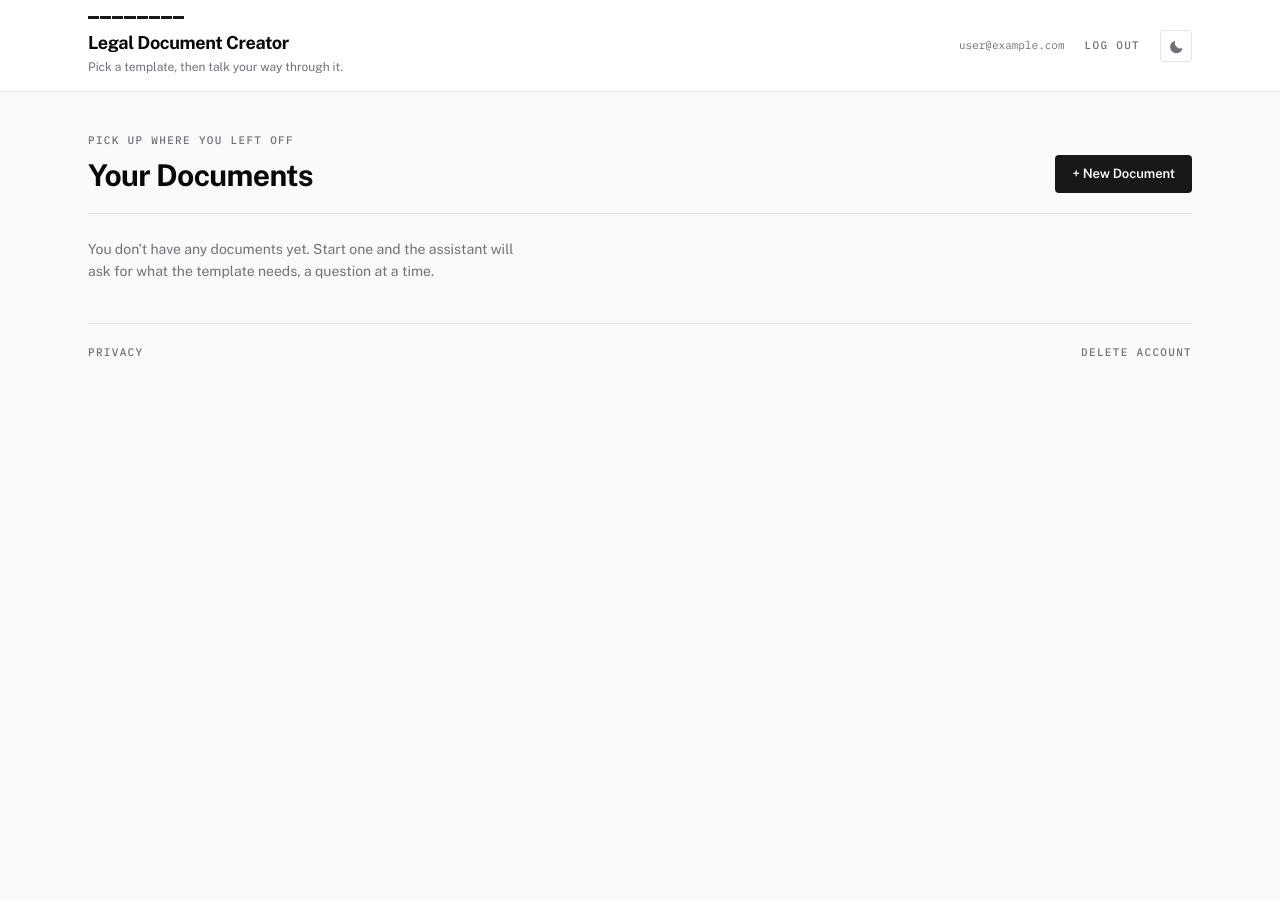
Home (auth-gated multi-user flow) › returns to the dashboard via My Documents and refreshes the list
Click the button "+ New Document".
click(1124, 174)  # box top-left (1055, 155), bottom-right (1192, 192)
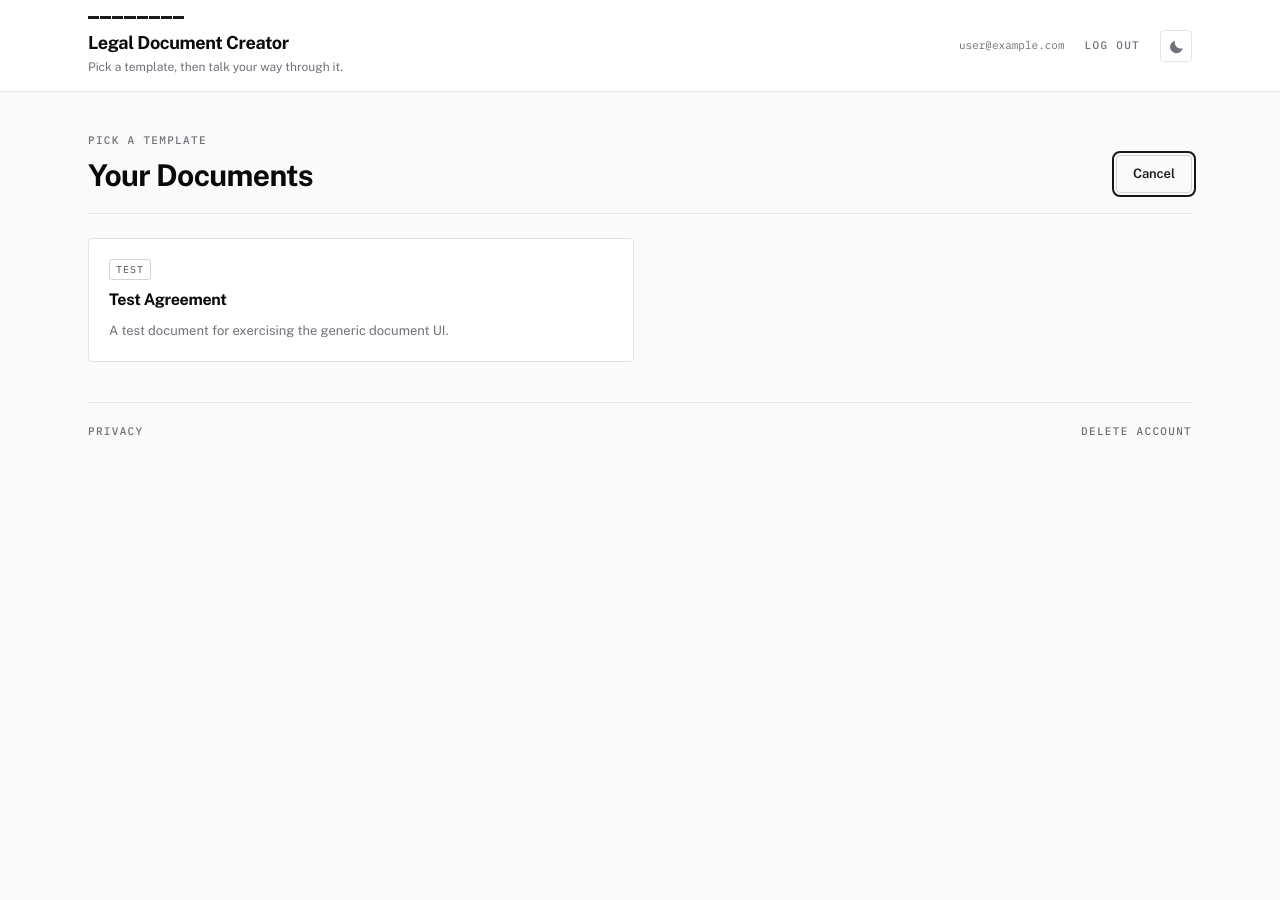
Click the button "Test Agreement".
click(130, 269)  # box top-left (88, 238), bottom-right (634, 362)
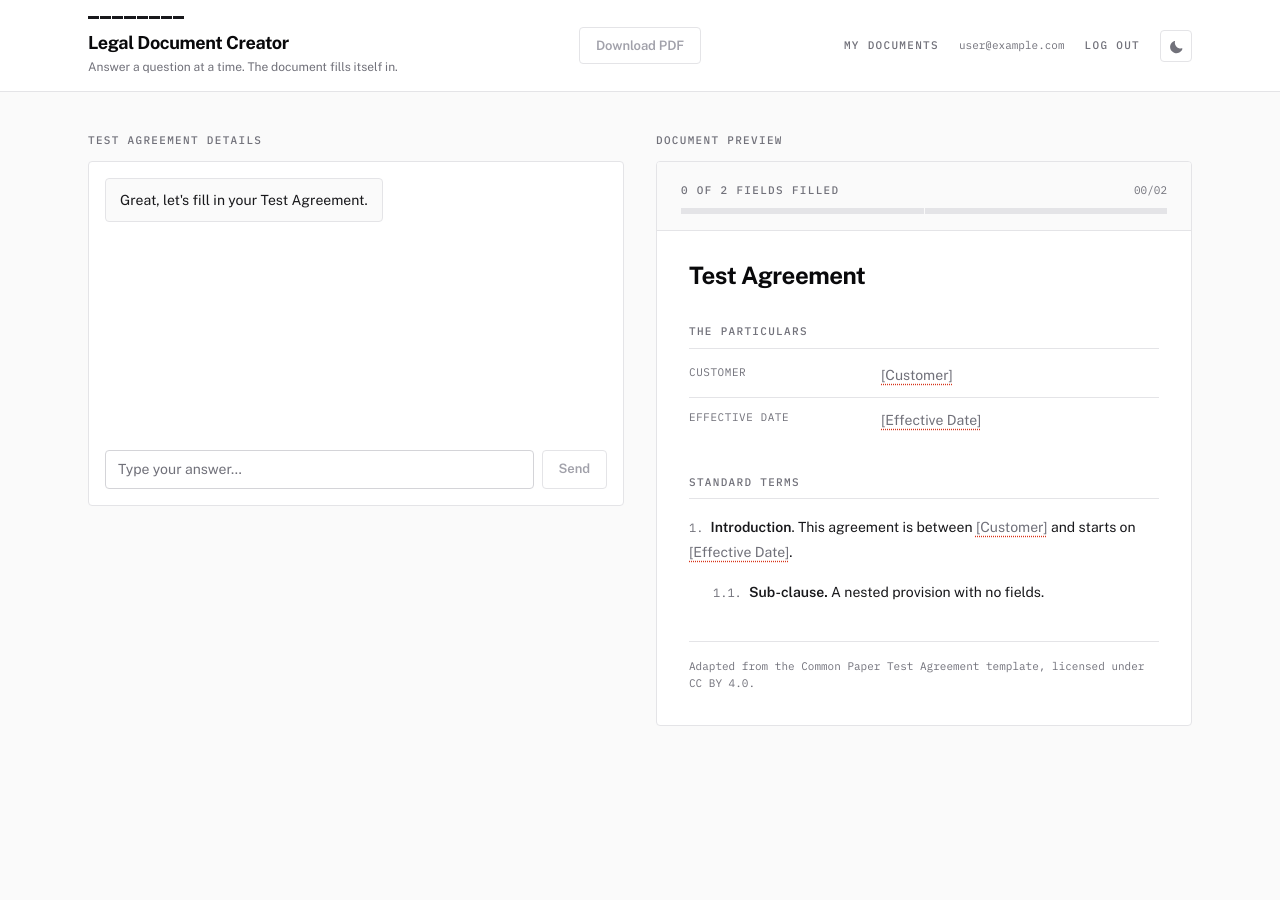
Now the heading "Test Agreement Details" is shown, box top-left (88, 133), bottom-right (262, 147)
Click the button "My Documents".
click(891, 46)  # box top-left (844, 37), bottom-right (939, 54)
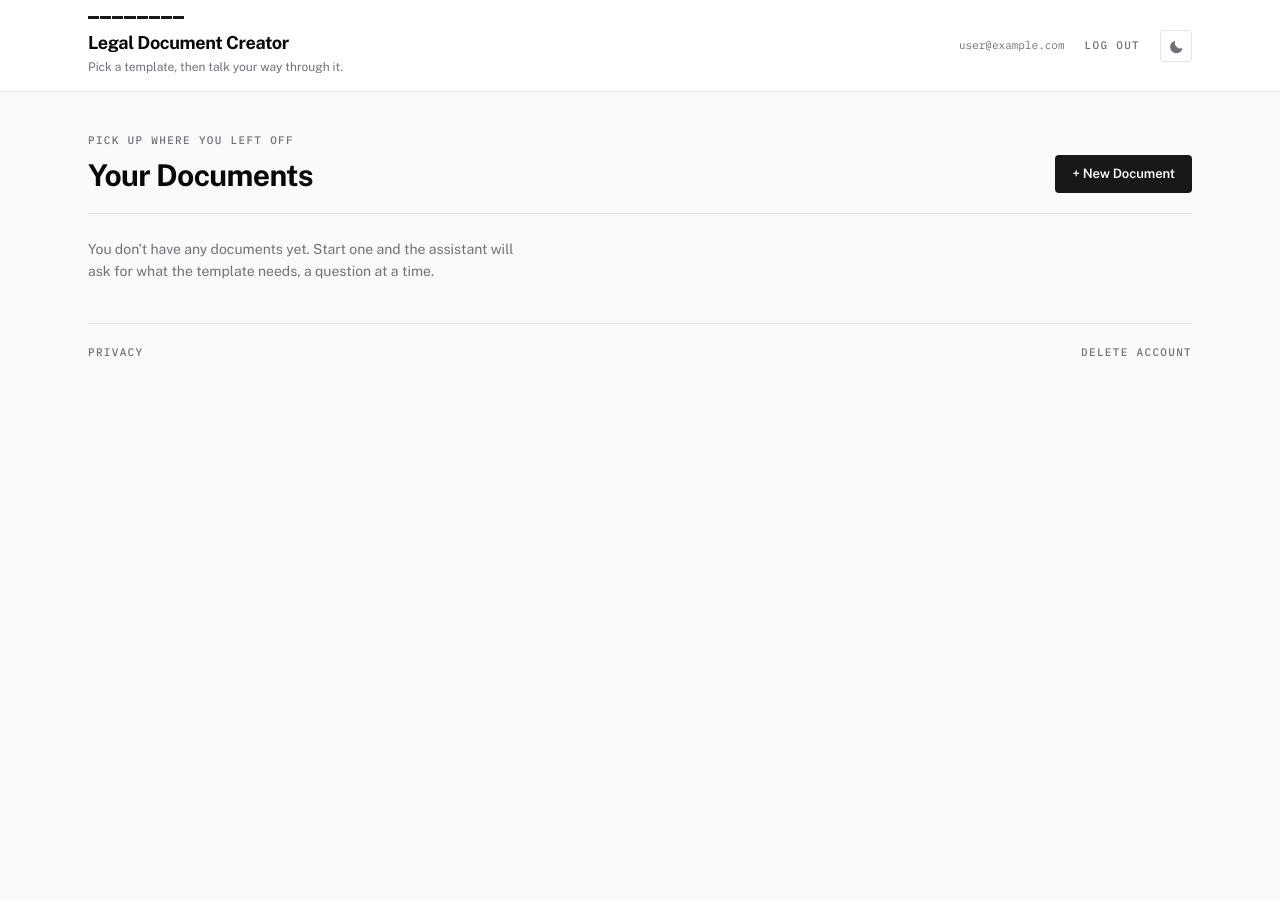
Now the heading "Your Documents" is shown, box top-left (88, 156), bottom-right (313, 192)
